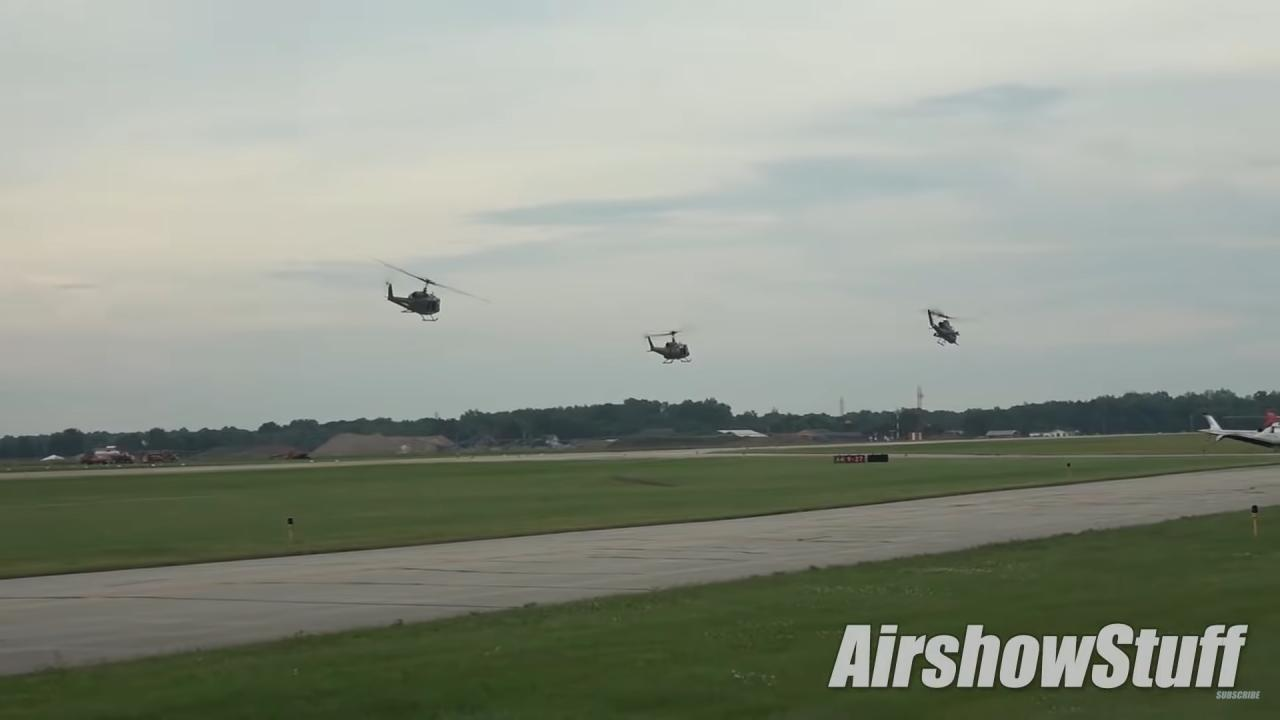Helicopter: (359, 248, 502, 341), (900, 294, 990, 359), (626, 319, 716, 373)
